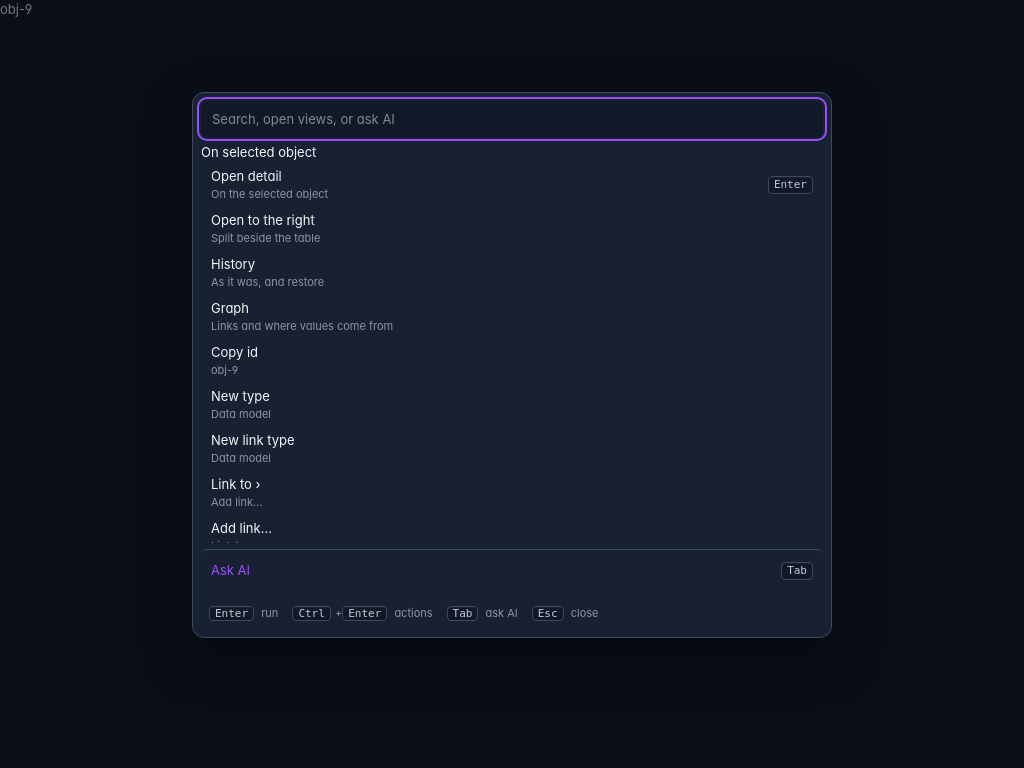
Scenario: active row › does not move the palette row when the pointer hovers
Press ArrowDown in the dropdown with test id "palette-input", box [201, 101, 823, 137]
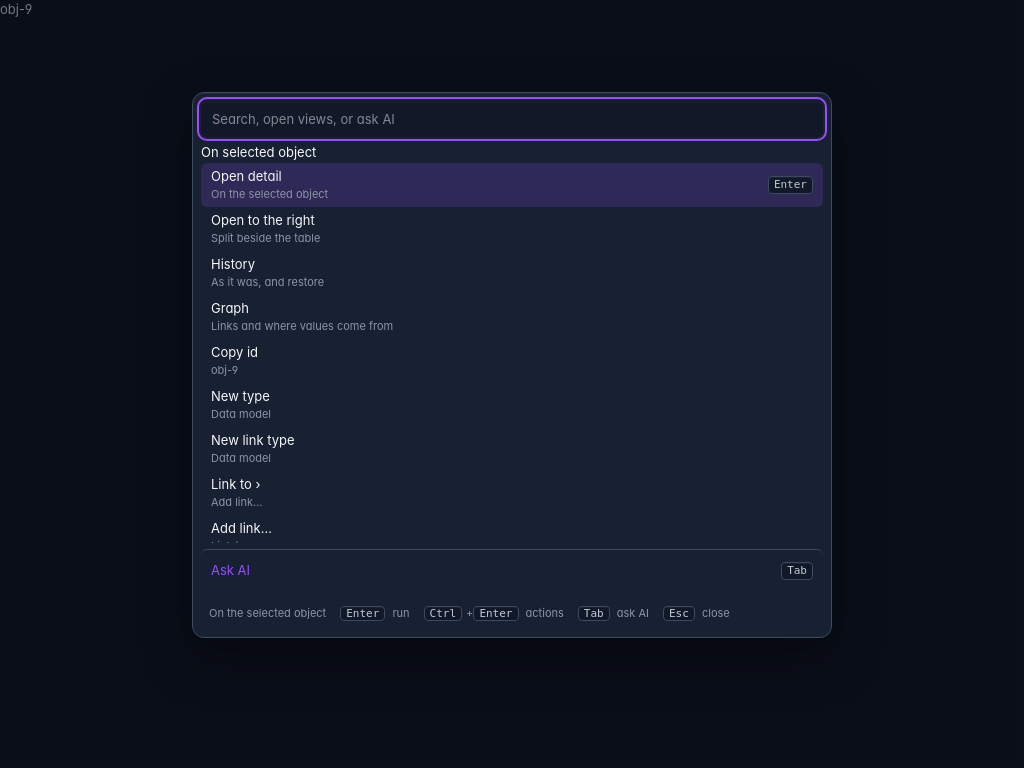
Press ArrowDown in the dropdown with test id "palette-input", box [201, 101, 823, 137]
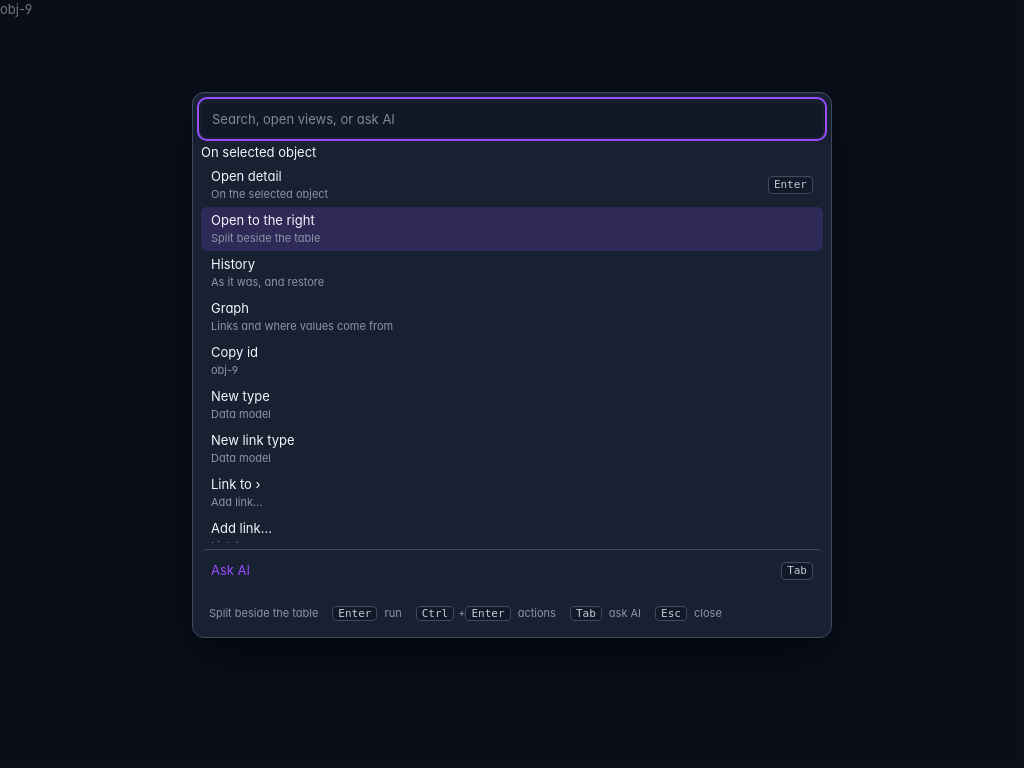
Expected: the text with test id "palette-active" reads "Split beside the table", [209, 606, 318, 620]
Hover over the option "Open detail On the selected object Enter": coordinates (246, 176) [201, 163, 823, 207]
Expected: the text with test id "palette-active" reads "Split beside the table", [209, 606, 318, 620]
Press the mouse on the option "Graph Links and where values come from": coordinates (302, 316) [211, 300, 393, 333]
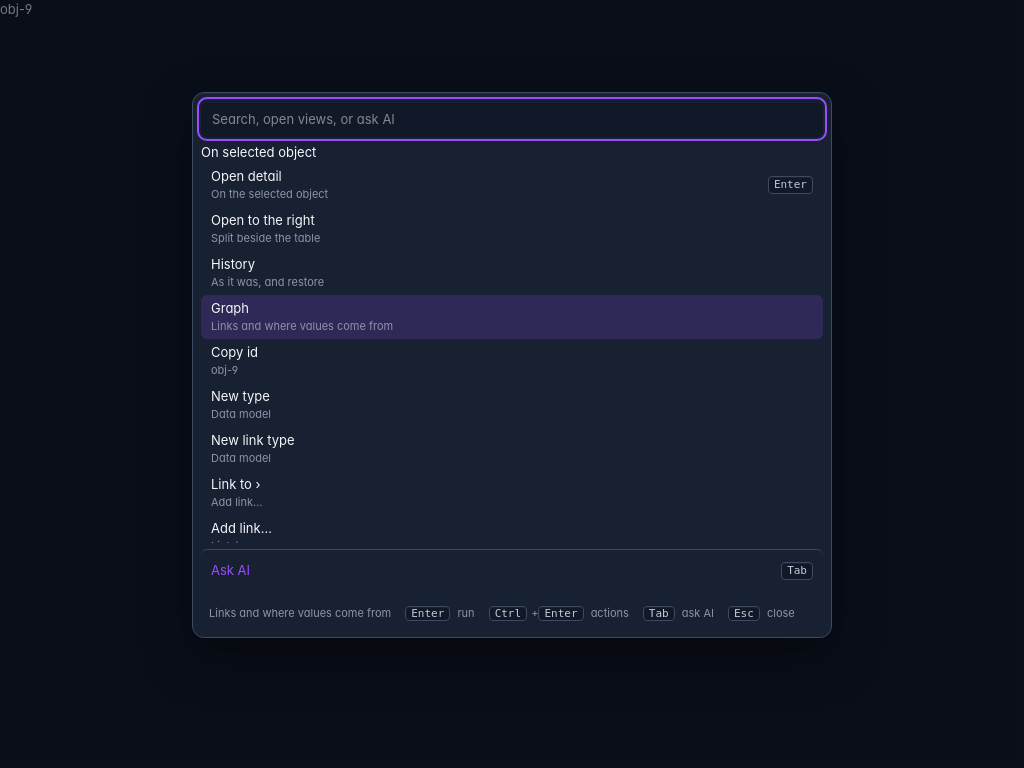
Expected: the text with test id "palette-active" reads "Links and where values come from", [209, 606, 391, 620]
Press ArrowDown in the dropdown with test id "palette-input", box [201, 101, 823, 137]
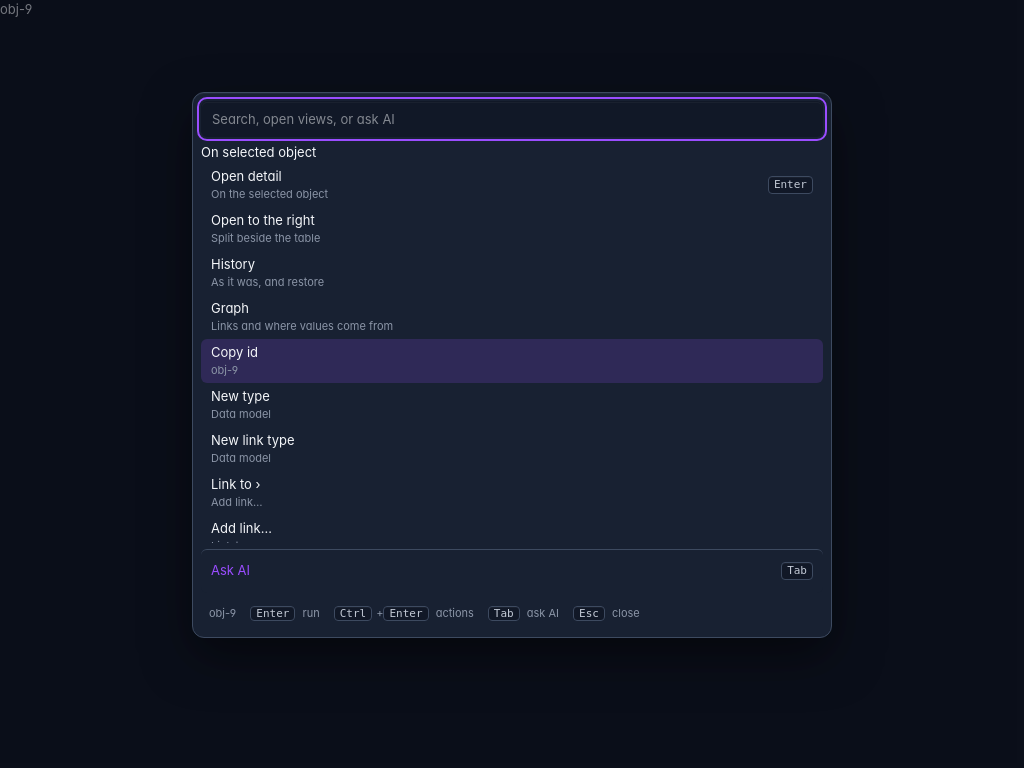
Expected: the text with test id "detail" reads "obj-9", [0, 1, 32, 17]
Expected: the text with test id "palette-active" reads "obj-9", [209, 606, 236, 620]
